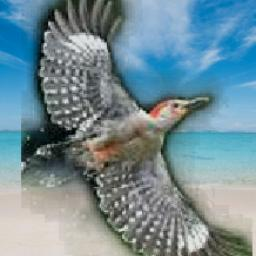Woodpecker: (22, 0, 254, 256)
